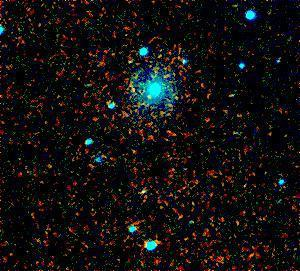star: (116, 72, 146, 102)
